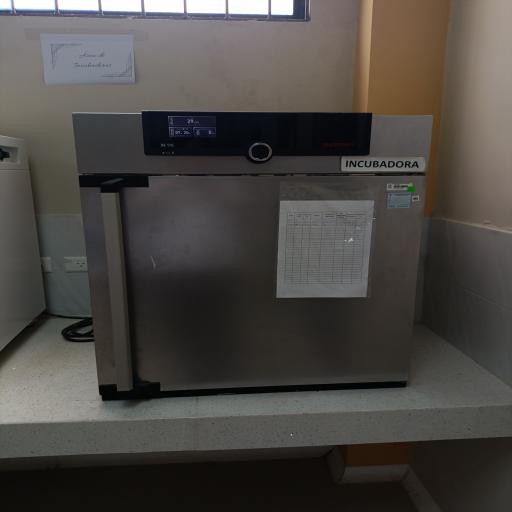Incubadora: (58, 100, 447, 410)
